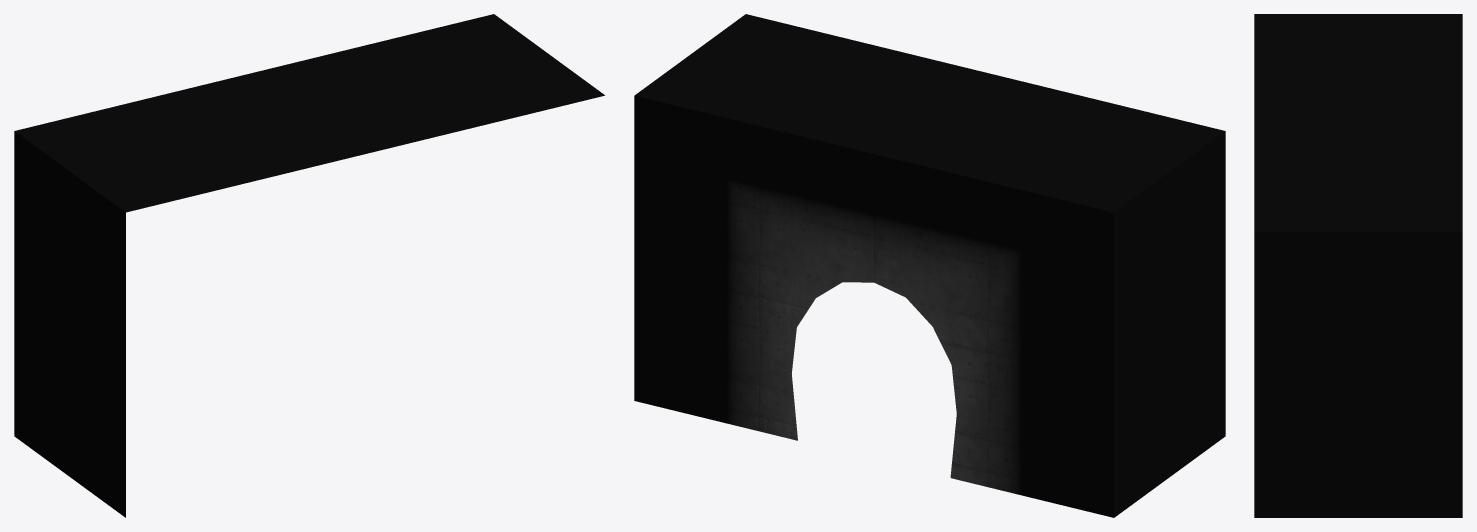
Rendered from AMB_1RAIL_TONNNELEIN.glb.
3 views of the same model, side by side, from view 1: azimuth 30°, elevation 25°; view 2: azimuth 150°, elevation 25°; view 3: azimuth 270°, elevation 25° (orthographic). The views are drawn at different scales.
Visible parts, largest first — view 1: J00; view 2: J00; view 3: J00.
Boxes of the visible parts, x1,y1,x2,y2 form: J00: (14, 14, 604, 517); J00: (634, 14, 1225, 517); J00: (1254, 14, 1462, 517).
Bounding box in the file's own units: 50.99 × 31.02 × 20.52.
1 material, 1 textured.
